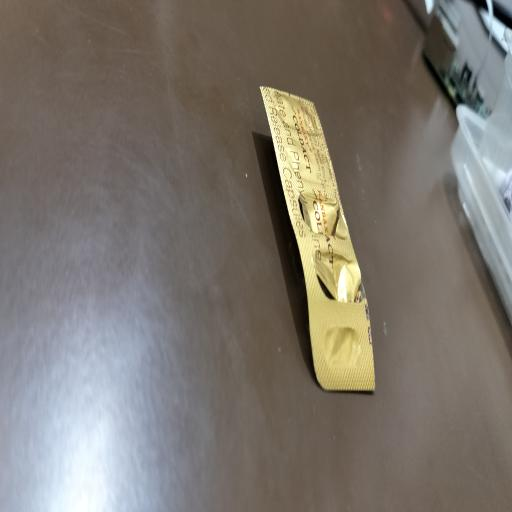coldact: (310, 191, 337, 275), (291, 109, 313, 176)
medicine: (258, 80, 376, 402)
